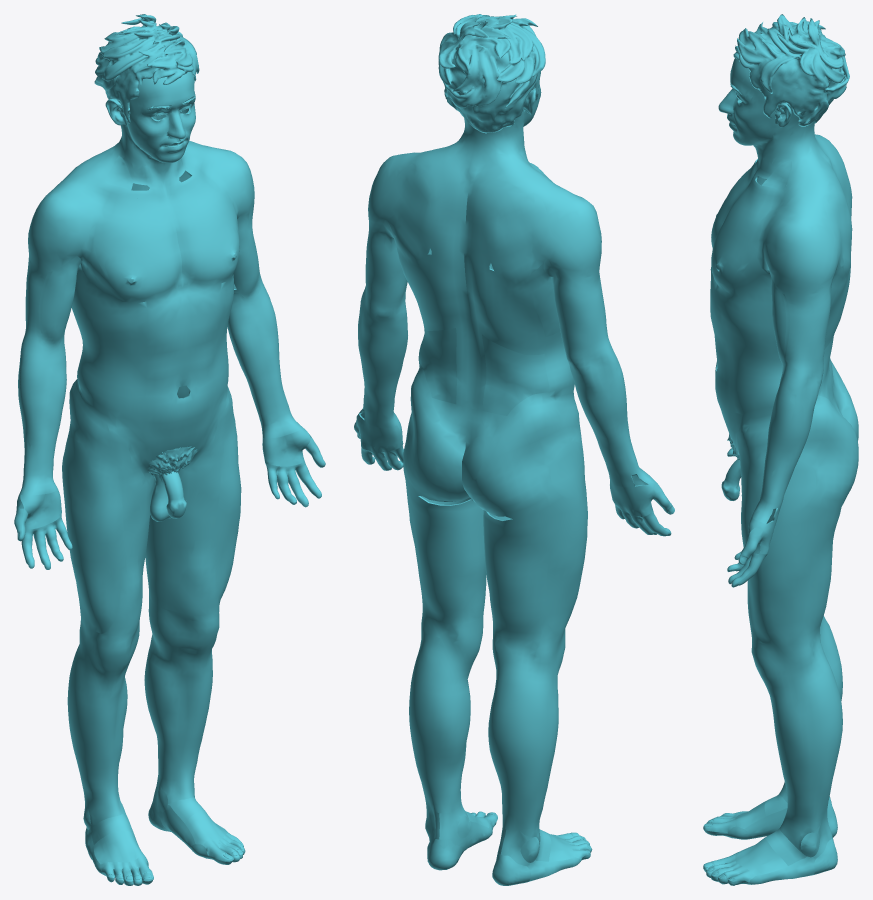
File: z-anatomy-1.2.0-regional-anatomy.glb
3 renders of one model, left to right at view 1: azimuth 30°, elevation 25°; view 2: azimuth 150°, elevation 25°; view 3: azimuth 270°, elevation 25°, orthographic. The views are drawn at different scales.
Visible parts, largest first — view 1: body-shell__Anterior region of thigh.r, body-shell__Anterior region of thigh.l, body-shell__Hairs of head, body-shell__Anterior region of leg.l, body-shell__Anterior region of leg.r, body-shell__Pectoral region.r, body-shell__Deltoid region.r, body-shell__Anterior region of forearm.l, body-shell__Anterior region of forearm.r, body-shell__Lateral region of thorax.r, body-shell__Lateral region of abdomen.r, body-shell__Pectoral region.l (+46 smaller); view 2: body-shell__Posterior region of thigh.r, body-shell__Hairs of head, body-shell__Gluteal region.r, body-shell__Posterior region of thigh.l, body-shell__Posterior region of leg.r, body-shell__Posterior region of leg.l, body-shell__Gluteal region.l, body-shell__Scapular region.r, body-shell__Posterior region of arm.r, body-shell__Infrascapular region.r, body-shell__Scapular region.l, body-shell__Posterior region of forearm.r (+32 smaller); view 3: body-shell__Hairs of head, body-shell__Anterior region of thigh.l, body-shell__Posterior region of thigh.l, body-shell__Deltoid region.l, body-shell__Gluteal region.l, body-shell__Posterior region of leg.l, body-shell__Lateral region of thorax.l, body-shell__Anterior region of leg.l, body-shell__Lateral region of abdomen.l, body-shell__Pectoral region.l, body-shell__Posterior region of arm.l, body-shell__Posterior region of neck.l (+45 smaller).
Boxes of the visible parts, x1,y1,x2,y2 form: body-shell__Anterior region of thigh.r: (69,382,154,636); body-shell__Anterior region of thigh.l: (150,383,241,615); body-shell__Hairs of head: (94,14,199,123); body-shell__Anterior region of leg.l: (153,654,212,780); body-shell__Anterior region of leg.r: (74,674,127,799); body-shell__Pectoral region.r: (94,205,174,302); body-shell__Deltoid region.r: (28,174,90,271); body-shell__Anterior region of forearm.l: (228,304,292,425); body-shell__Anterior region of forearm.r: (22,360,66,481); body-shell__Lateral region of thorax.r: (71,225,147,333); body-shell__Lateral region of abdomen.r: (77,342,147,422); body-shell__Pectoral region.l: (183,179,238,284); body-shell__Posterior region of thigh.r: (483,496,579,640); body-shell__Hairs of head: (438,14,545,133); body-shell__Gluteal region.r: (462,392,567,518); body-shell__Posterior region of thigh.l: (404,472,485,624); body-shell__Posterior region of leg.r: (488,688,555,830); body-shell__Posterior region of leg.l: (409,667,468,813); body-shell__Gluteal region.l: (403,360,470,501); body-shell__Scapular region.r: (486,191,559,287); body-shell__Posterior region of arm.r: (543,242,606,348); body-shell__Infrascapular region.r: (475,273,545,354); body-shell__Scapular region.l: (379,164,436,266); body-shell__Posterior region of forearm.r: (570,368,640,475); body-shell__Hairs of head: (733,14,849,126); body-shell__Anterior region of thigh.l: (738,407,787,646); body-shell__Posterior region of thigh.l: (783,506,841,645); body-shell__Deltoid region.l: (763,197,834,297); body-shell__Gluteal region.l: (798,395,858,509); body-shell__Posterior region of leg.l: (798,679,842,822); body-shell__Lateral region of thorax.l: (715,229,846,343); body-shell__Anterior region of leg.l: (770,696,806,822); body-shell__Lateral region of abdomen.l: (723,347,782,414); body-shell__Pectoral region.l: (711,197,769,291); body-shell__Posterior region of arm.l: (799,248,839,364); body-shell__Posterior region of neck.l: (784,120,834,199).
Size of the model in its own units: 0.6801 by 1.74 by 0.294.
